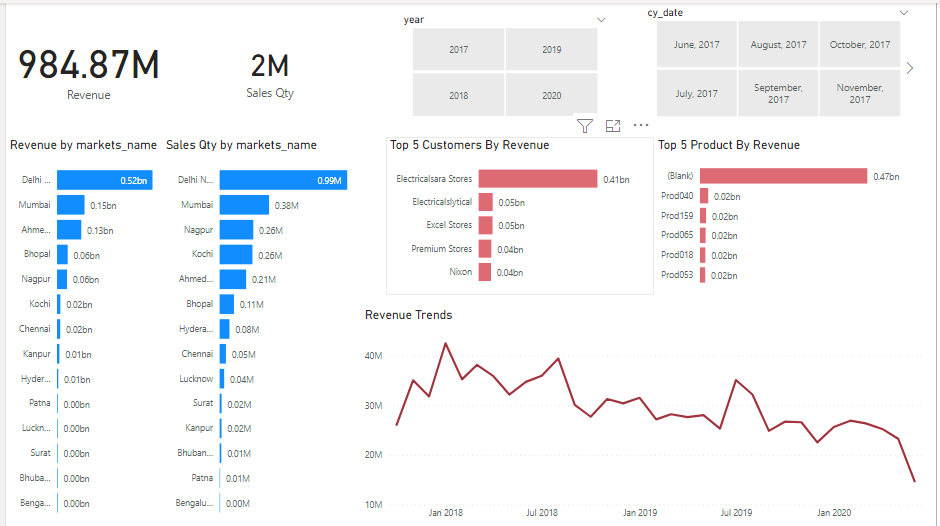

The dashboard page shown, as its layout file describes it:
{"tool":"powerbi","page":{"name":"Page 1","canvas":[1280,720],"ordinal":0},"visuals":[{"type":"card","fields":{"Values":["BaseMeasures.Sales Qty"]},"box":[238.5,0,250.3,183.1],"z":0},{"type":"card","fields":{"Values":["BaseMeasures.Revenue"]},"box":[0,0,226.8,174.7],"z":1000},{"type":"barChart","fields":{"Y":["BaseMeasures.Revenue"],"Category":["sales markets.markets_name"]},"box":[0,184.8,226.8,535.9],"z":2000},{"type":"slicer","fields":{"Values":["sales date.year"]},"box":[534.2,10.1,304,152.9],"z":3000},{"type":"slicer","fields":{"Values":["sales date.cy_date"]},"box":[870.1,0,384.7,162.9],"z":4000},{"type":"barChart","fields":{"Y":["BaseMeasures.Sales Qty"],"Category":["sales markets.markets_name"]},"box":[215,184.8,262,535.9],"z":5000},{"type":"barChart","title":"Top 5 Customers By Revenue","fields":{"Y":["BaseMeasures.Revenue"],"Category":["sales customers.custmer_name"]},"box":[522.4,184.8,369.6,216.7],"z":6000},{"type":"barChart","title":"Top 5 Product By Revenue","fields":{"Y":["BaseMeasures.Revenue"],"Category":["sales products.product_code"]},"box":[892,184.8,362.8,216.7],"z":7000},{"type":"lineChart","title":"Revenue Trends","fields":{"Y":["BaseMeasures.Revenue"],"Category":["sales date.cy_date.Variation.Date Hierarchy.Year","sales date.cy_date.Variation.Date Hierarchy.Month"]},"box":[488.8,418.3,791.2,302.4],"z":8000}]}

Visuals, with their boxes in screenshot pixels (x1, y1, x2, y2), scaled from the page's 1280x720 canvas onto the 940x526 screenshot:
card - BaseMeasures.Sales Qty: pyautogui.locateOnScreen(175, 0, 359, 134)
card - BaseMeasures.Revenue: pyautogui.locateOnScreen(0, 0, 167, 128)
barChart - BaseMeasures.Revenue x sales markets.markets_name: pyautogui.locateOnScreen(0, 135, 167, 525)
slicer - sales date.year: pyautogui.locateOnScreen(392, 7, 616, 119)
slicer - sales date.cy_date: pyautogui.locateOnScreen(639, 0, 921, 119)
barChart - BaseMeasures.Sales Qty x sales markets.markets_name: pyautogui.locateOnScreen(158, 135, 350, 525)
"Top 5 Customers By Revenue" barChart: pyautogui.locateOnScreen(384, 135, 655, 293)
"Top 5 Product By Revenue" barChart: pyautogui.locateOnScreen(655, 135, 921, 293)
"Revenue Trends" lineChart: pyautogui.locateOnScreen(359, 306, 939, 525)
